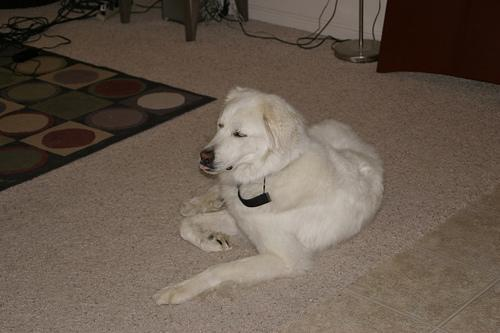Great_Pyrenees: (148, 85, 383, 306)
